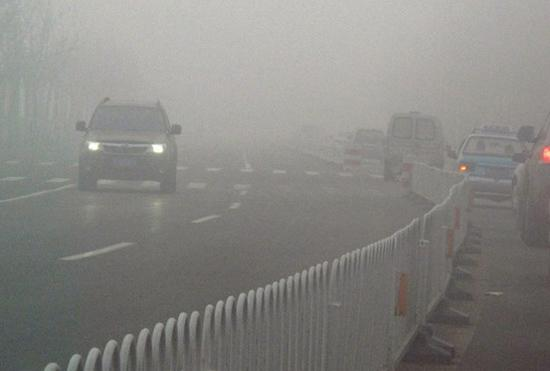car: (75, 96, 182, 196), (448, 121, 537, 201), (384, 108, 448, 189), (514, 110, 550, 250), (345, 127, 387, 161)
